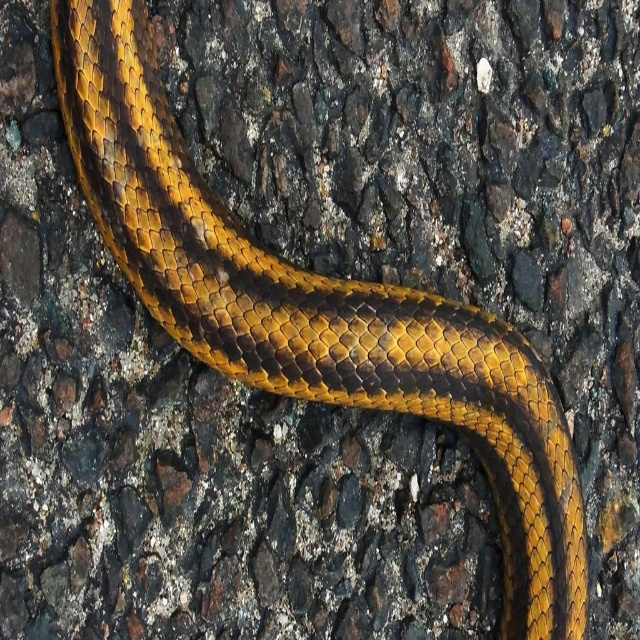Snake: (49, 0, 591, 640)
